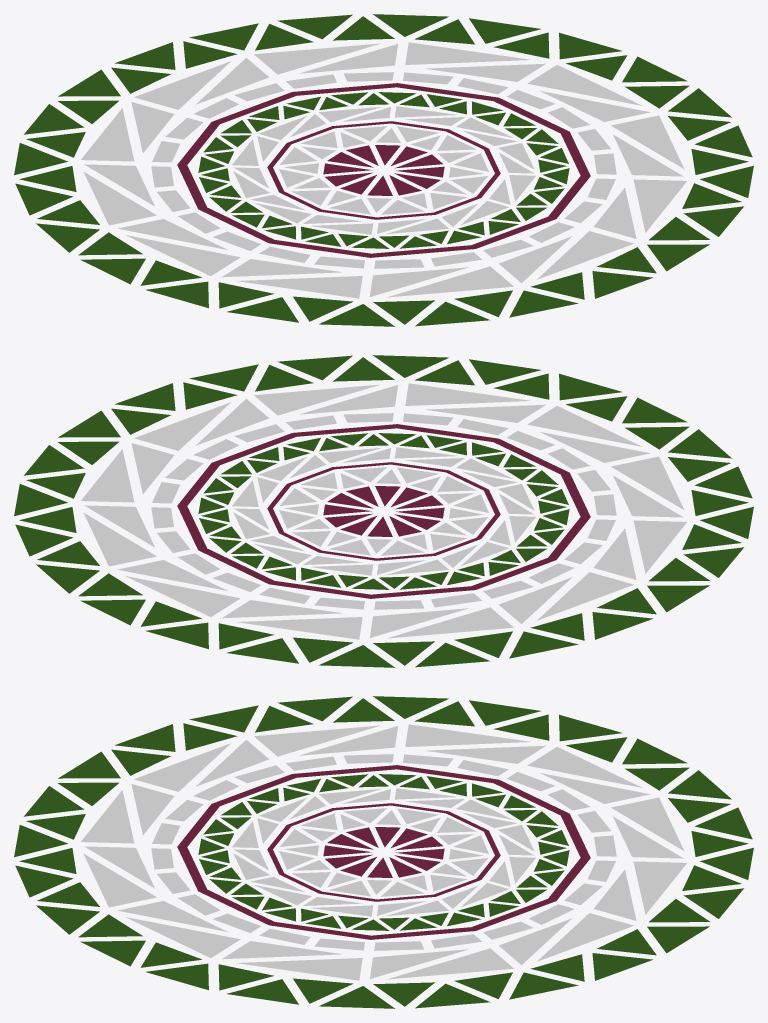
File: MOSAIC FLOOR.fbx
3 renders of one model, top to bottom at view 1: azimuth 30°, elevation 25°; view 2: azimuth 150°, elevation 25°; view 3: azimuth 270°, elevation 25°, orthographic.
Parts seen in each view (by area): view 1: white, green, red; view 2: white, green, red; view 3: white, green, red.
Part boxes in pixels (left/top/right/bottom): white: left=81, top=42, right=686, bottom=298; green: left=14, top=14, right=753, bottom=326; red: left=177, top=83, right=590, bottom=257; white: left=81, top=383, right=686, bottom=639; green: left=14, top=355, right=753, bottom=667; red: left=177, top=424, right=590, bottom=598; white: left=81, top=724, right=686, bottom=980; green: left=14, top=696, right=753, bottom=1008; red: left=177, top=765, right=590, bottom=939.
Size of the model in its own units: 550 by 3.8e-07 by 550.
1 material, 1 textured.
